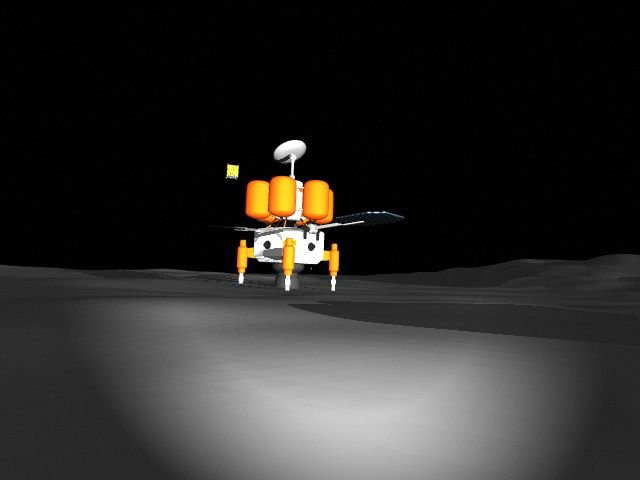cubesat: (221, 162, 242, 181)
